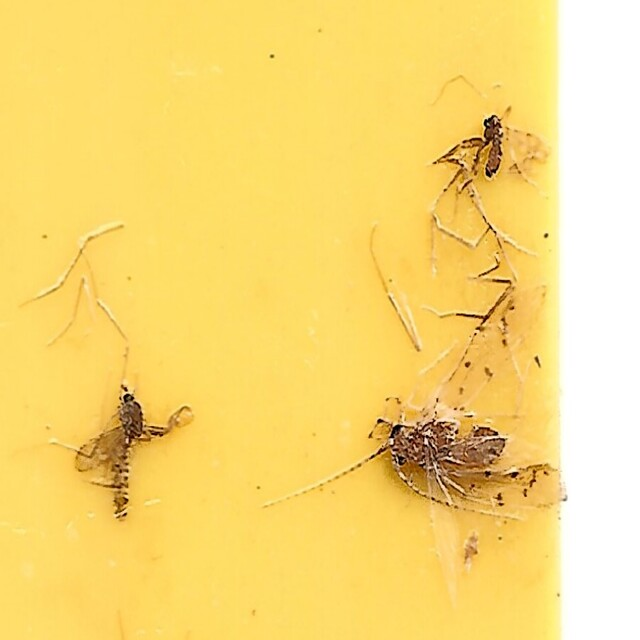Nematocera: (72, 383, 204, 521), (470, 108, 557, 199)
Plecoptera: (307, 274, 568, 532)
